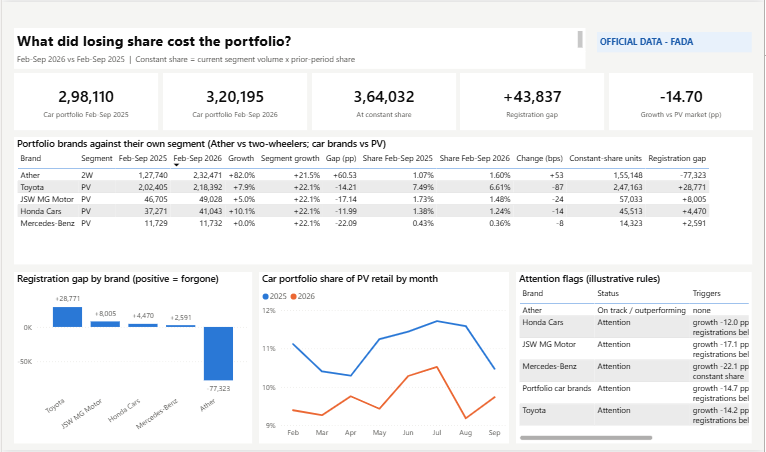

The dashboard page shown, as its layout file describes it:
{"tool":"powerbi","page":{"name":"Portfolio Opportunity","canvas":[1280,720],"ordinal":3},"visuals":[{"type":"textbox","box":[20,10,960,40],"z":1000},{"type":"textbox","box":[20,48,960,30],"z":2000},{"type":"textbox","box":[1000,16,260,34],"z":3000},{"type":"card","fields":{"Values":["_Measures.Portfolio Car Registrations PP"]},"box":[20,86,242,96],"z":4000},{"type":"card","fields":{"Values":["_Measures.Portfolio Car Registrations CP"]},"box":[270,86,242,96],"z":5000},{"type":"card","fields":{"Values":["_Measures.Portfolio Car Constant-Share Registrations"]},"box":[520,86,242,96],"z":6000},{"type":"card","fields":{"Values":["_Measures.Portfolio Car Registration Gap"]},"box":[770,86,242,96],"z":7000},{"type":"card","fields":{"Values":["_Measures.Portfolio Car Growth Gap vs PV pp"]},"box":[1020,86,242,96],"z":8000},{"type":"tableEx","title":"Portfolio brands against their own segment (Ather vs two-wheelers; car brands vs PV)","fields":{"Values":["DimOEM.PortfolioBrand","DimVehicleSegment.SegmentCode","_Measures.Registrations PP","_Measures.Registrations CP","_Measures.YoY Growth % (Period)","_Measures.Segment YoY Growth % (Period)","_Measures.Growth Gap vs Segment pp","_Measures.Market Share PP %","_Measures.Market Share CP %","_Measures.Share Change bps","_Measures.Constant-Share Registrations","_Measures.Registration Gap"]},"box":[20,194,1240,214],"z":9000},{"type":"clusteredColumnChart","title":"Registration gap by brand (positive = forgone)","fields":{"Category":["DimOEM.PortfolioBrand"],"Y":["_Measures.Registration Gap"]},"box":[20,420,400,288],"z":10000},{"type":"lineChart","title":"Car portfolio share of PV retail by month","fields":{"Category":["DimDate.MonthShortName"],"Series":["DimDate.YearNumber"],"Y":["_Measures.Market Share %"]},"box":[432,420,420,288],"z":11000},{"type":"tableEx","title":"Attention flags (illustrative rules)","fields":{"Values":["MarketAttention.Brand","MarketAttention.AttentionStatus","MarketAttention.Triggers"]},"box":[864,420,396,288],"z":12000}]}

Visuals, with their boxes on the page's 1280x720 design canvas (x1, y1, x2, y2). These are canvas units, not pixel positions in the 766x452 screenshot, which may show the page scaled, cropped or inside an application window:
textbox: 20 10 980 50
textbox: 20 48 980 78
textbox: 1000 16 1260 50
card - _Measures.Portfolio Car Registrations PP: 20 86 262 182
card - _Measures.Portfolio Car Registrations CP: 270 86 512 182
card - _Measures.Portfolio Car Constant-Share Registrations: 520 86 762 182
card - _Measures.Portfolio Car Registration Gap: 770 86 1012 182
card - _Measures.Portfolio Car Growth Gap vs PV pp: 1020 86 1262 182
"Portfolio brands against their own segment (Ather vs two-wheelers; car brands vs PV)" tableEx: 20 194 1260 408
"Registration gap by brand (positive = forgone)" clusteredColumnChart: 20 420 420 708
"Car portfolio share of PV retail by month" lineChart: 432 420 852 708
"Attention flags (illustrative rules)" tableEx: 864 420 1260 708
